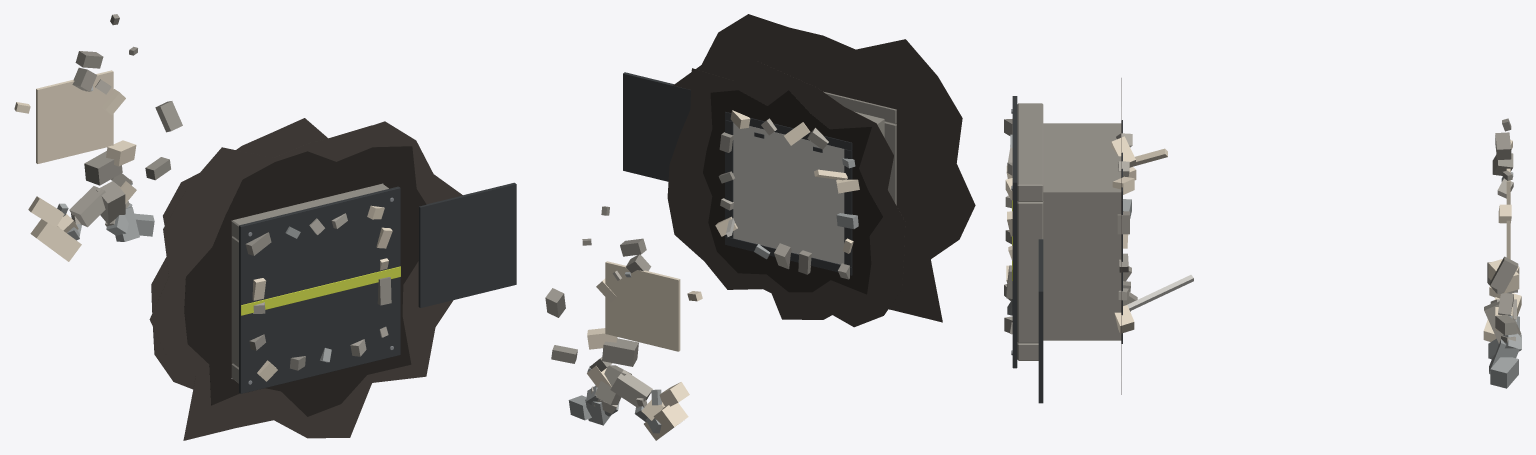
The model's file is prop_breach_ceiling.glb.
The picture shows the model from 3 angles, left to right: view 1: azimuth 30°, elevation 25°; view 2: azimuth 150°, elevation 25°; view 3: azimuth 270°, elevation 25°; orthographic projection. The views are drawn at different scales.
Visible parts, largest first — view 1: Scorch, BlownFrame, Seal, Curb; view 2: Scorch, BlownFrame, Seal, Curb; view 3: BlownFrame, Curb, Seal.
Part boxes in pixels (bbox=[...]): Scorch: bbox=[149, 118, 462, 440]; BlownFrame: bbox=[14, 14, 516, 381]; Seal: bbox=[239, 186, 400, 393]; Curb: bbox=[231, 183, 388, 383]; Scorch: bbox=[667, 14, 975, 327]; BlownFrame: bbox=[545, 72, 884, 440]; Seal: bbox=[725, 112, 852, 275]; Curb: bbox=[823, 91, 896, 205]; BlownFrame: bbox=[1004, 118, 1521, 403]; Curb: bbox=[1017, 103, 1043, 360]; Seal: bbox=[1011, 96, 1122, 368].
Size of what is drawn, in the model's own units: 3.61 by 3.04 by 3.99.
